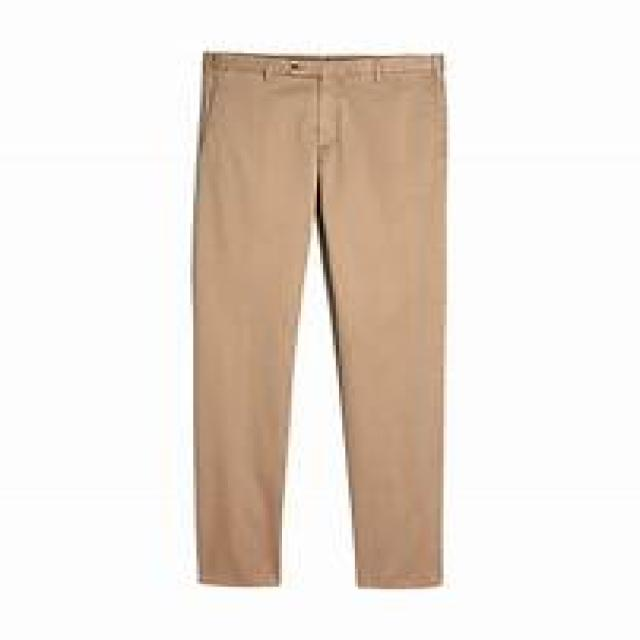long-pants: (193, 53, 444, 595)
